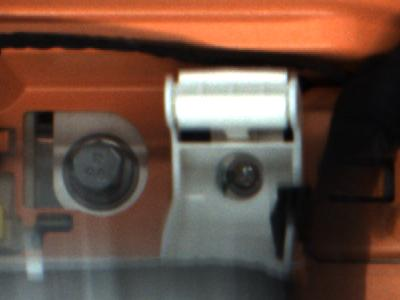nut_b: (57, 127, 148, 218)
